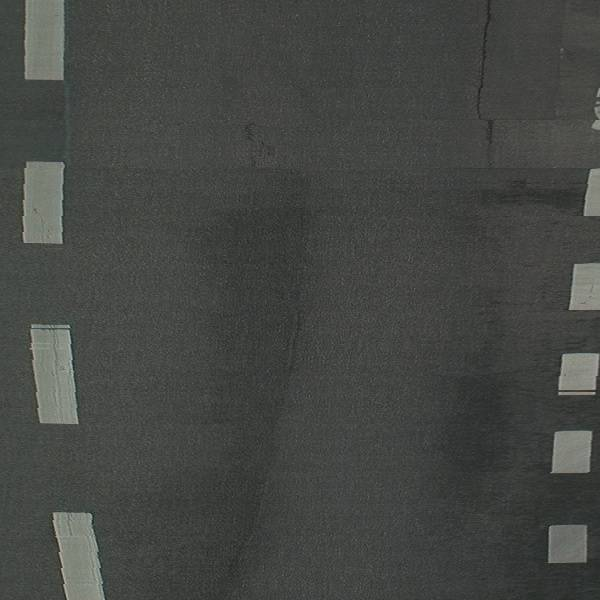road_damage: (474, 1, 498, 156), (242, 121, 282, 170), (287, 304, 304, 386)
